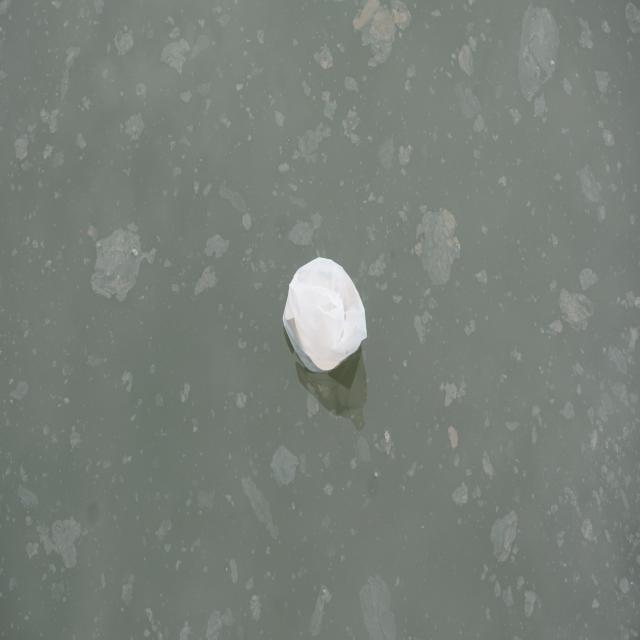Kantong Plastik: (279, 247, 373, 373)
